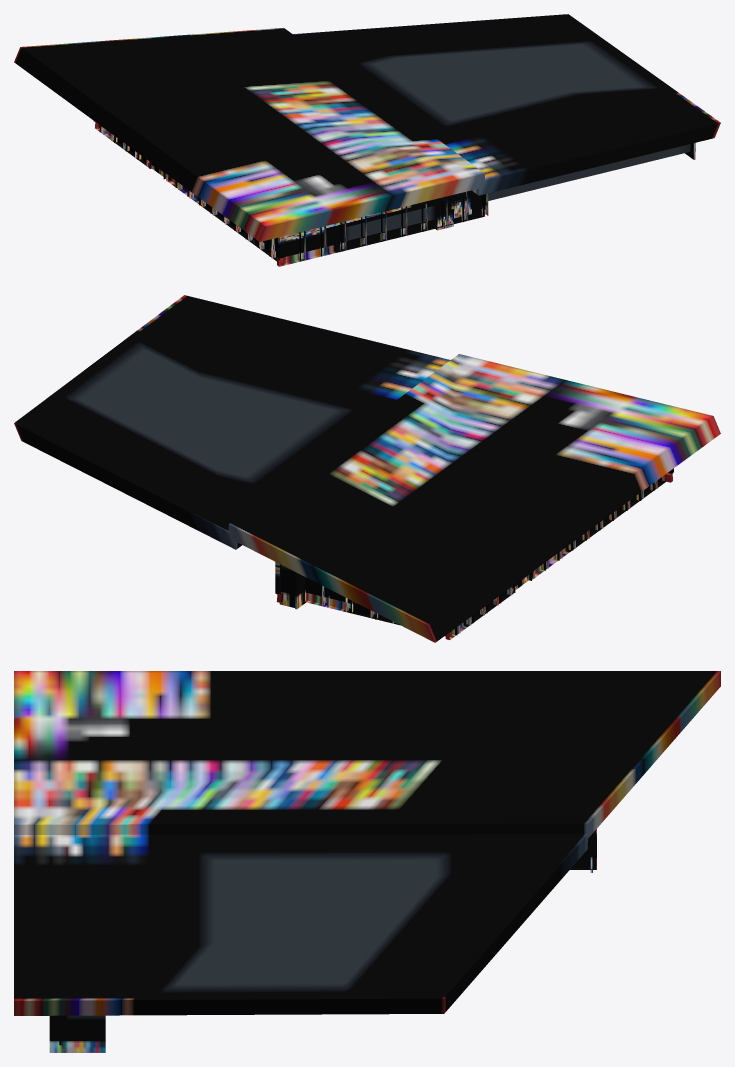
File: Stage1Collider(2).fbx
3 views of the same model, one above another, from view 1: azimuth 30°, elevation 25°; view 2: azimuth 150°, elevation 25°; view 3: azimuth 270°, elevation 25° (orthographic). The views are drawn at different scales.
Parts seen in each view (by area): view 1: Collider.001, Collider.015, Collider.054, Collider.014; view 2: Collider.001, Collider.102, Collider.014; view 3: Collider.001, Collider.121.
Boxes of the visible parts, x1,y1,x2,y2 form: Collider.001: (14,14,720,241); Collider.015: (277,190,485,266); Collider.054: (488,144,690,200); Collider.014: (164,173,285,264); Collider.001: (14,295,720,642); Collider.102: (304,577,451,636); Collider.014: (532,477,665,579); Collider.001: (14,671,720,1015); Collider.121: (49,1015,105,1052).
Size of the model in its own units: 62068 by 7320 by 57251.
